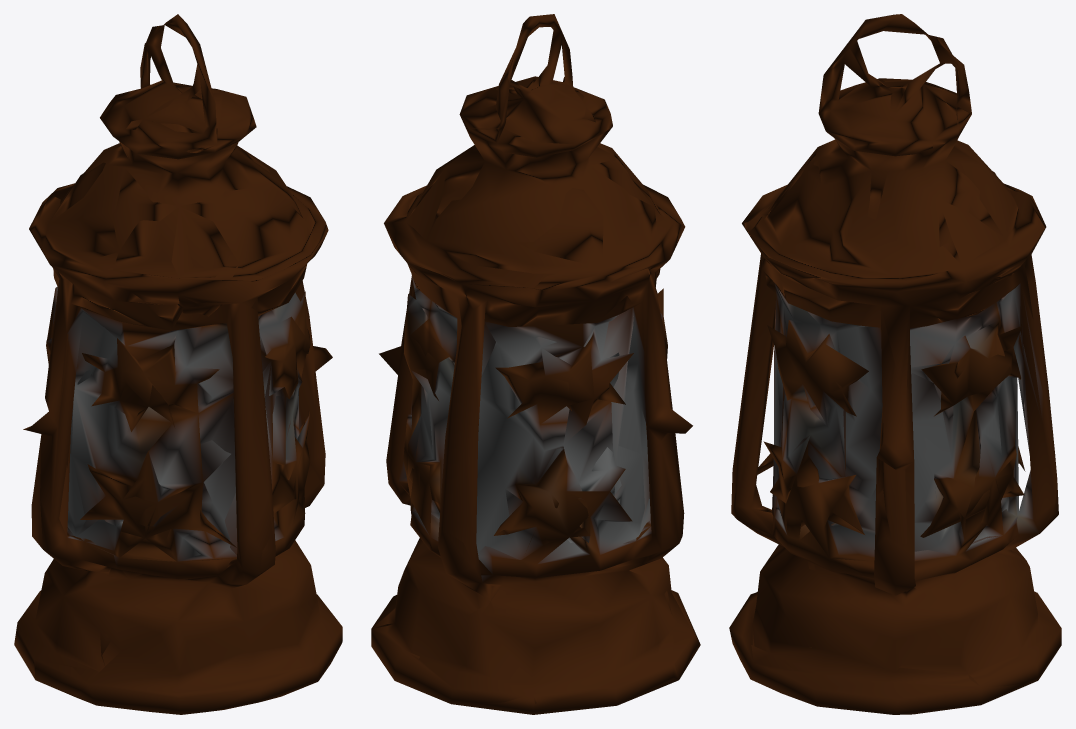
The model's file is gen3d-desert-lantern-lod0.glb.
3 views of the same model, side by side, from view 1: azimuth 30°, elevation 25°; view 2: azimuth 150°, elevation 25°; view 3: azimuth 270°, elevation 25° (orthographic).
Visible parts, largest first — view 1: part_0; view 2: part_0; view 3: part_0.
Part boxes in pixels (x1,y1,x2,y2): part_0: (14,14,342,714); part_0: (371,14,700,714); part_0: (729,14,1061,714).
Bounding box in the file's own units: 0.5126 × 0.999 × 0.4746.
